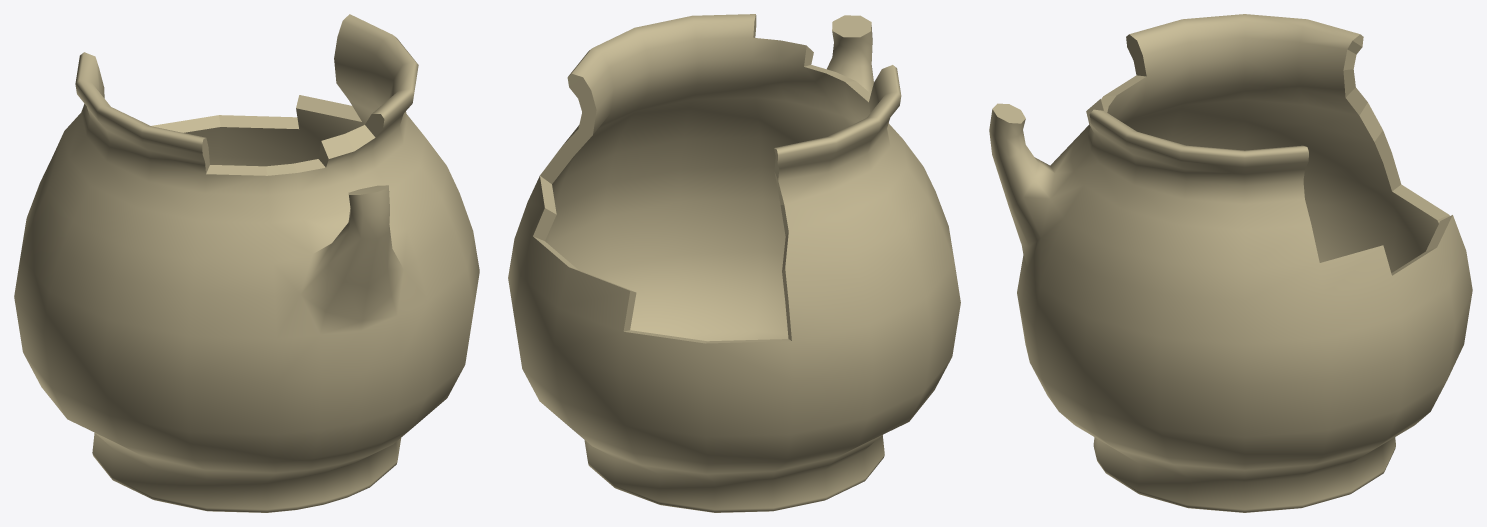
Rendered from health pot broken.fbx.
3 renders of one model, left to right at view 1: azimuth 30°, elevation 25°; view 2: azimuth 150°, elevation 25°; view 3: azimuth 270°, elevation 25°, orthographic. The views are drawn at different scales.
Visible parts, largest first — view 1: Health_Pot1_broken; view 2: Health_Pot1_broken; view 3: Health_Pot1_broken.
Boxes of the visible parts, left/top/right/bottom form: Health_Pot1_broken: left=14, top=14, right=479, bottom=512; Health_Pot1_broken: left=508, top=14, right=960, bottom=512; Health_Pot1_broken: left=989, top=14, right=1472, bottom=512.
Size of the model in its own units: 0.7717 by 0.6875 by 0.8185.
